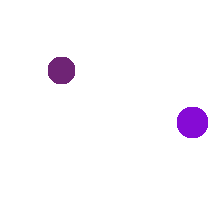circle: (177, 107, 207, 137), (48, 57, 74, 83)
